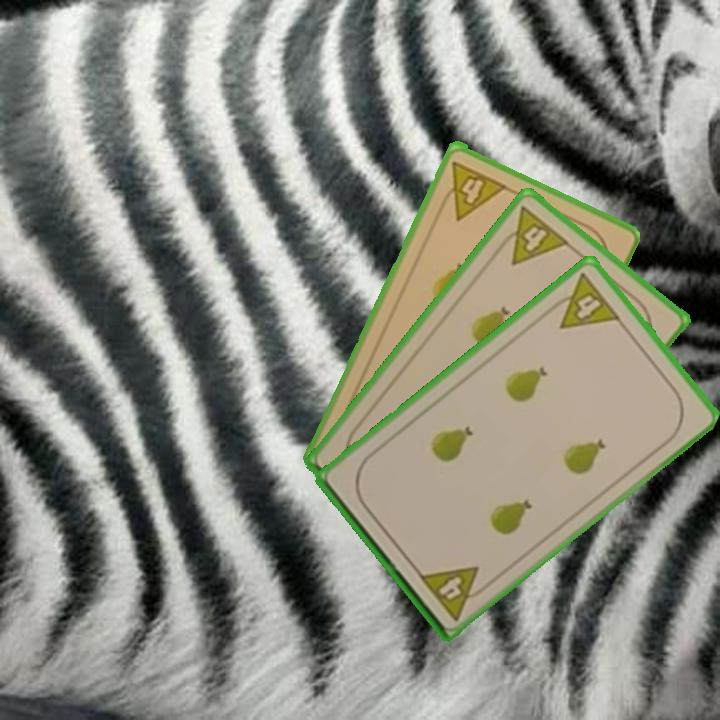4p: (492, 201, 572, 268), (543, 269, 624, 332), (434, 157, 510, 223), (415, 561, 493, 624)
